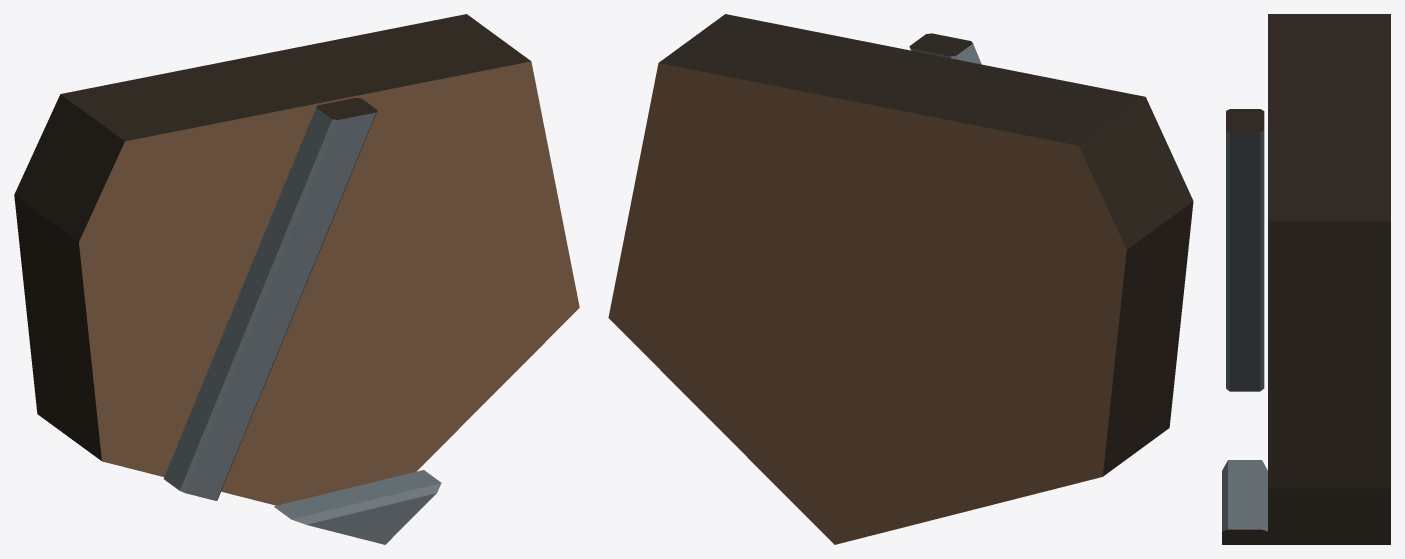
The model's file is SM_DoorShard_02_12.fbx.
3 views of the same model, side by side, from view 1: azimuth 30°, elevation 25°; view 2: azimuth 150°, elevation 25°; view 3: azimuth 270°, elevation 25° (orthographic). The views are drawn at different scales.
Visible parts, largest first — view 1: SM_DoorShard_02_12; view 2: SM_DoorShard_02_12; view 3: SM_DoorShard_02_12.
Part boxes in pixels (<box>): SM_DoorShard_02_12: <box>14,14,579,544</box>; SM_DoorShard_02_12: <box>608,14,1193,544</box>; SM_DoorShard_02_12: <box>1222,14,1390,544</box>.
Size of the model in its own units: 71.57 by 22 by 60.55.
